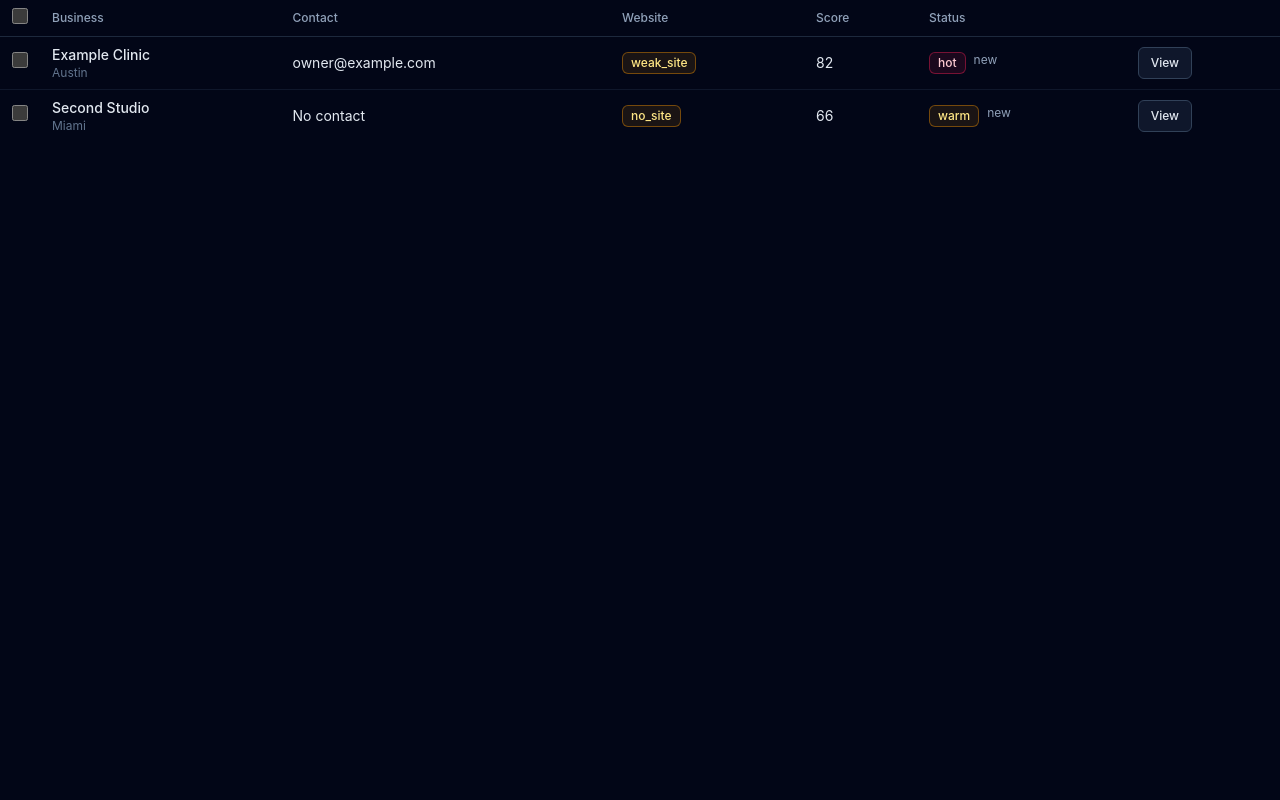
bulk outreach selection UI › selects individual and visible leads without hiding row navigation
Click the checkbox named "Select Example Clinic" at (20, 60), box [12, 52, 28, 68]
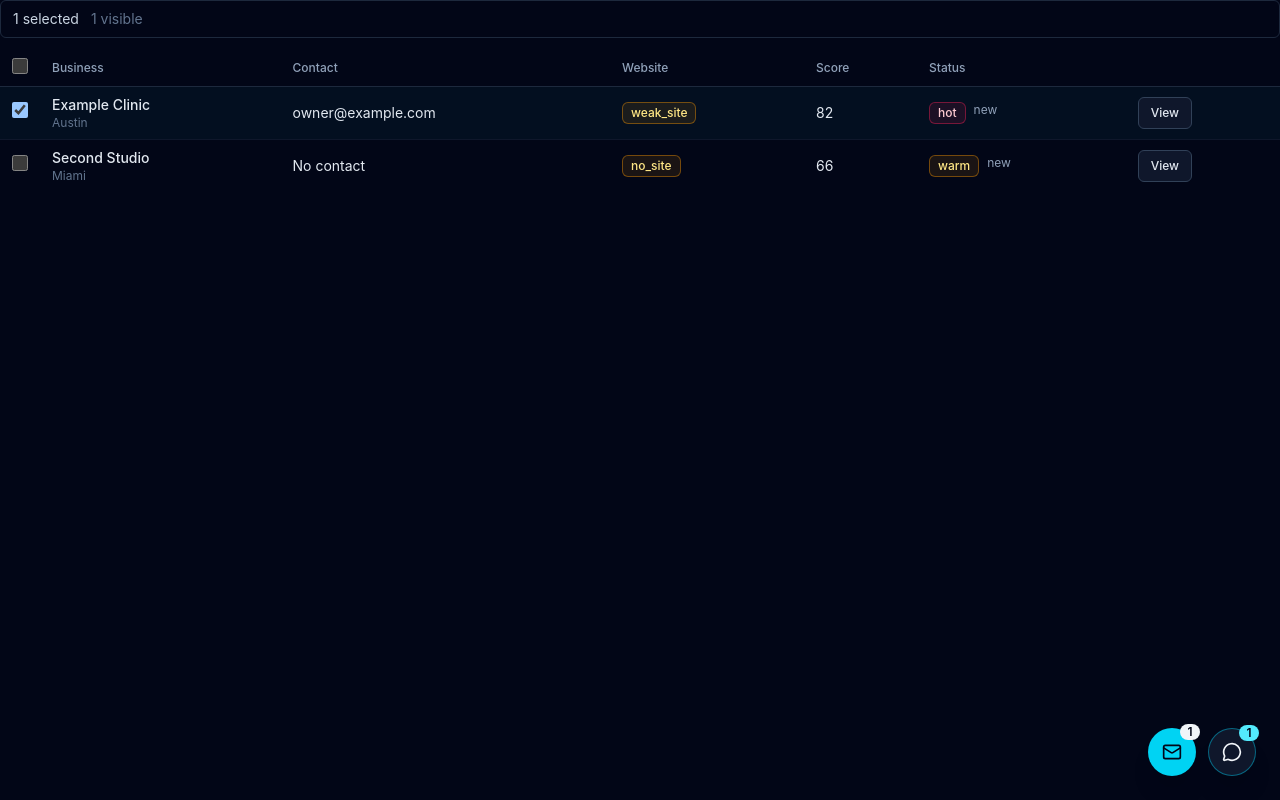
Expected: the text "1 selected" is shown, [13, 9, 79, 29]
Click the checkbox named "Select visible leads" at (20, 66), box [12, 58, 28, 74]
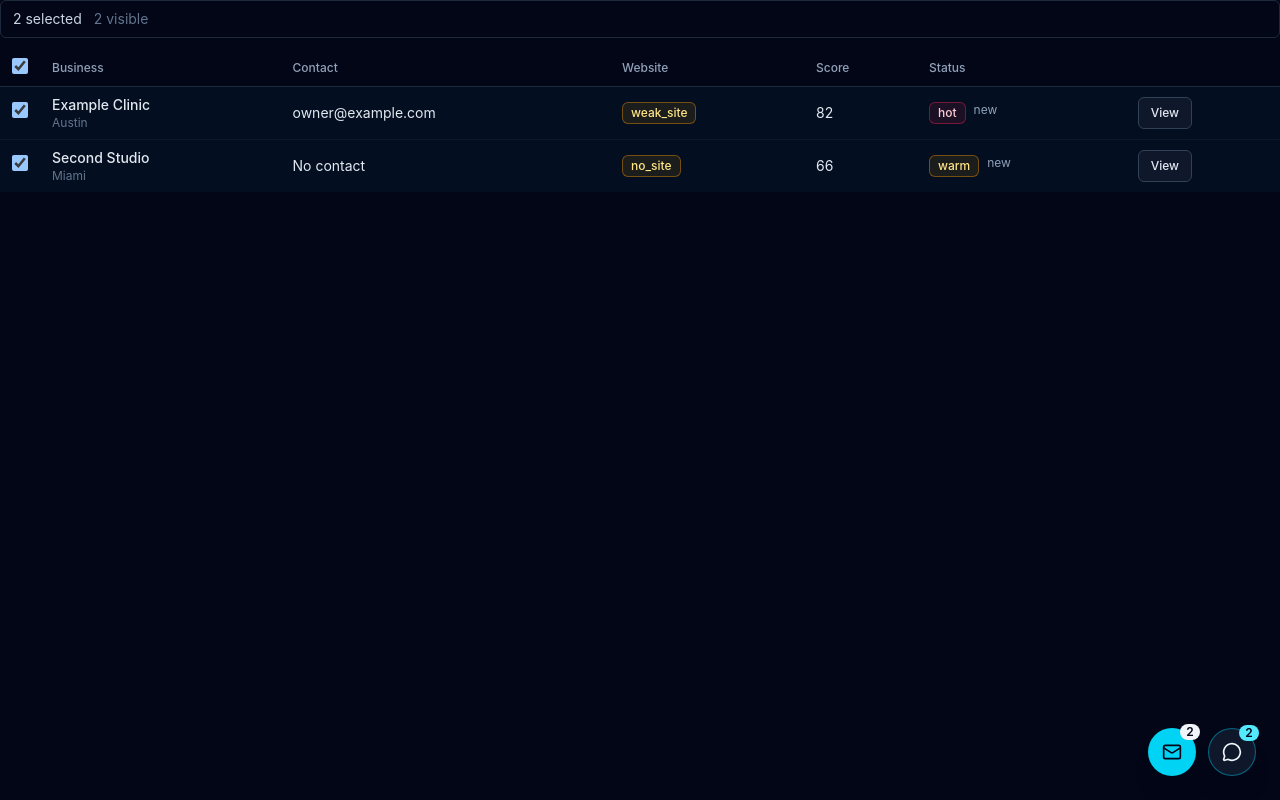
Expected: the text "2 selected" is shown, [13, 9, 82, 29]
Expected: the text "2 visible" is shown, [94, 9, 148, 29]
